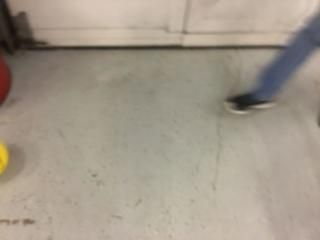power_cell: (1, 142, 12, 175)
